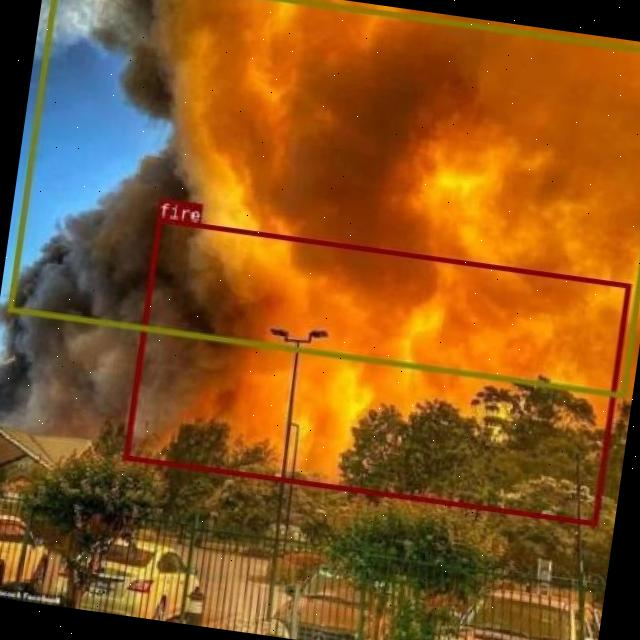fire: (123, 217, 631, 526)
smoke: (7, 0, 640, 397)
